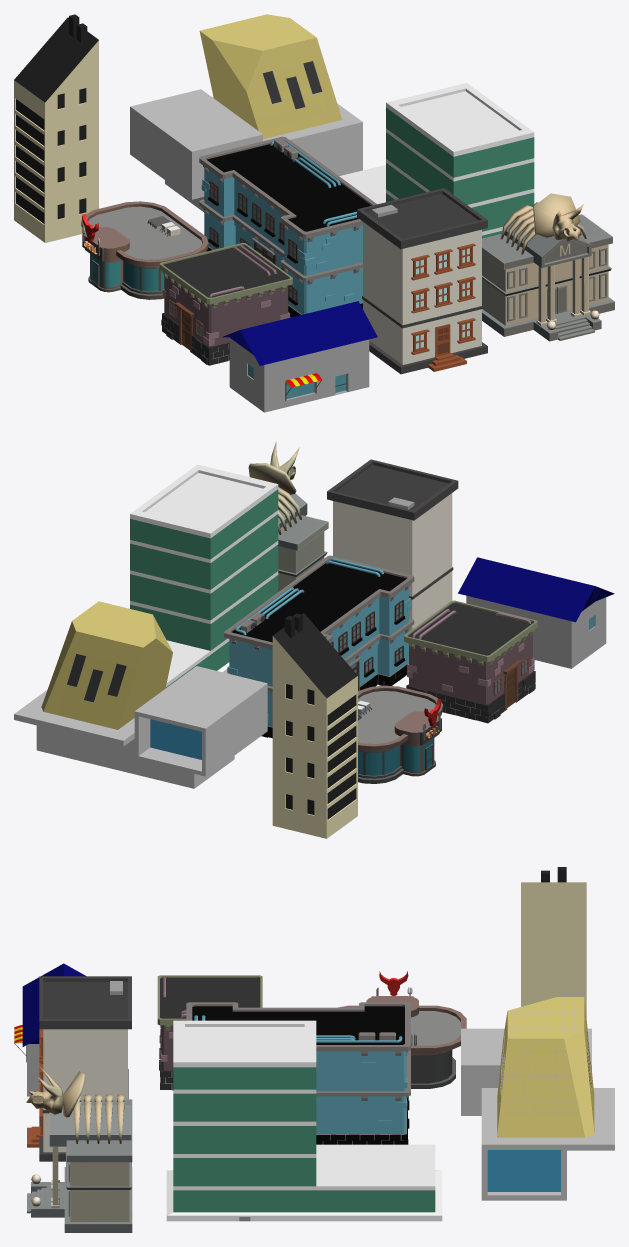
File: BottomRightBuilding.fbx
3 views of the same model, one above another, from view 1: azimuth 30°, elevation 25°; view 2: azimuth 150°, elevation 25°; view 3: azimuth 270°, elevation 25° (orthographic). The views are drawn at different scales.
Visible parts, largest first — view 1: City_001_Building_012, 2Story_Wide_Mat_Cube.019, Flat1, Skyscraper2, City_001_Building_014, Plane008, Object_20.002, 1Story_Mat_Cube.003, Object005.001; view 2: City_001_Building_012, Skyscraper2, City_001_Building_014, 2Story_Wide_Mat_Cube.019, Flat1, 1Story_Mat_Cube.003, Object_20.002, Object005.001, Plane008; view 3: Skyscraper2, City_001_Building_012, 2Story_Wide_Mat_Cube.019, Plane008, Flat1, City_001_Building_014, Object005.001, 1Story_Mat_Cube.003, Object_20.002.
Part boxes in pixels (x1,y1,x2,y2): City_001_Building_012: [130, 14, 362, 212]; 2Story_Wide_Mat_Cube.019: [199, 136, 376, 317]; Flat1: [357, 188, 487, 374]; Skyscraper2: [339, 83, 534, 238]; City_001_Building_014: [14, 14, 98, 242]; Plane008: [482, 193, 614, 341]; Object_20.002: [222, 301, 377, 412]; 1Story_Mat_Cube.003: [159, 243, 292, 365]; Object005.001: [81, 201, 208, 299]; City_001_Building_012: [14, 601, 267, 788]; Skyscraper2: [130, 464, 278, 687]; City_001_Building_014: [272, 613, 357, 838]; 2Story_Wide_Mat_Cube.019: [224, 555, 414, 738]; Flat1: [327, 459, 458, 631]; 1Story_Mat_Cube.003: [404, 600, 537, 723]; Object_20.002: [458, 557, 614, 668]; Object005.001: [358, 685, 443, 783]; Plane008: [248, 441, 328, 591]; Skyscraper2: [166, 1020, 442, 1221]; City_001_Building_012: [461, 997, 614, 1200]; 2Story_Wide_Mat_Cube.019: [186, 1002, 410, 1144]; Plane008: [26, 1064, 132, 1232]; Flat1: [27, 976, 131, 1161]; City_001_Building_014: [521, 867, 586, 1016]; Object005.001: [338, 971, 466, 1088]; 1Story_Mat_Cube.003: [157, 975, 262, 1090]; Object_20.002: [14, 963, 86, 1096].
Size of the model in its own units: 1970 by 1005 by 2587.
33 materials, 3 textured.
